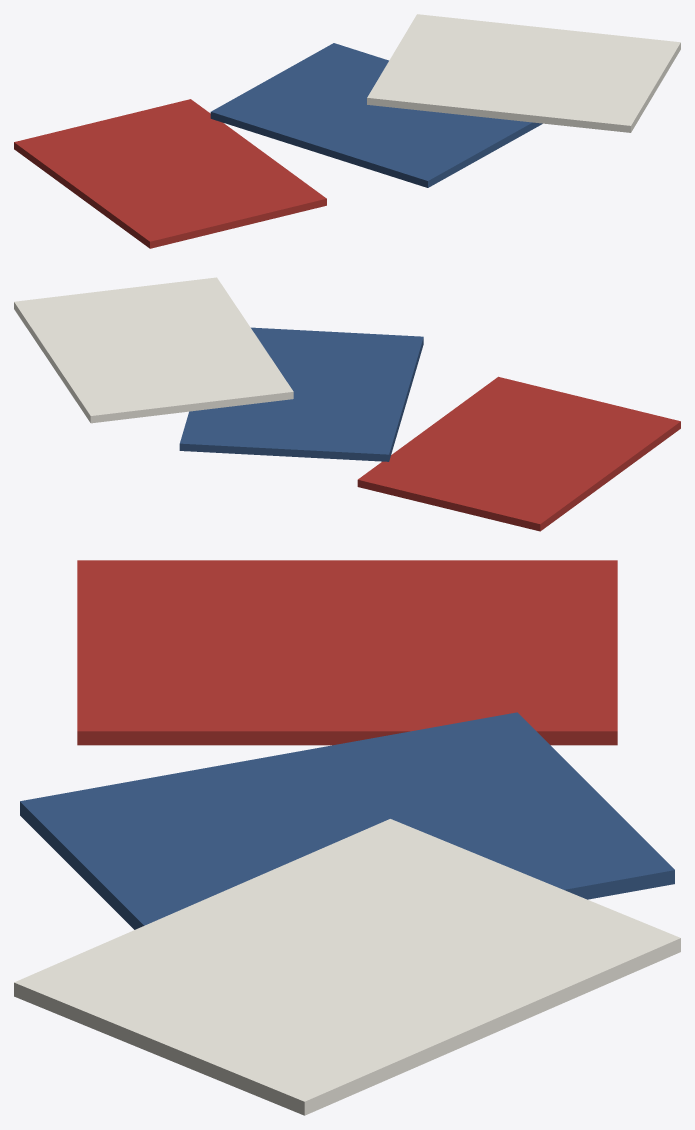
The model's file is revistas.glb.
3 renders of one model, top to bottom at view 1: azimuth 30°, elevation 25°; view 2: azimuth 150°, elevation 25°; view 3: azimuth 270°, elevation 25°, orthographic. The views are drawn at different scales.
Parts seen in each view (by area): view 1: Portaria_Revista.002, Portaria_Revista, Portaria_Revista.001; view 2: Portaria_Revista, Portaria_Revista.002, Portaria_Revista.001; view 3: Portaria_Revista.002, Portaria_Revista, Portaria_Revista.001.
Boxes of the visible parts, bbox=[...] form: Portaria_Revista.002: bbox=[367, 14, 680, 132]; Portaria_Revista: bbox=[14, 99, 326, 248]; Portaria_Revista.001: bbox=[210, 43, 542, 187]; Portaria_Revista: bbox=[357, 376, 680, 531]; Portaria_Revista.002: bbox=[14, 277, 293, 423]; Portaria_Revista.001: bbox=[179, 327, 423, 461]; Portaria_Revista.002: bbox=[14, 819, 680, 1115]; Portaria_Revista: bbox=[77, 560, 617, 745]; Portaria_Revista.001: bbox=[20, 712, 674, 929].
Bounding box in the file's own units: 0.6986 × 0.024 × 0.3457.
